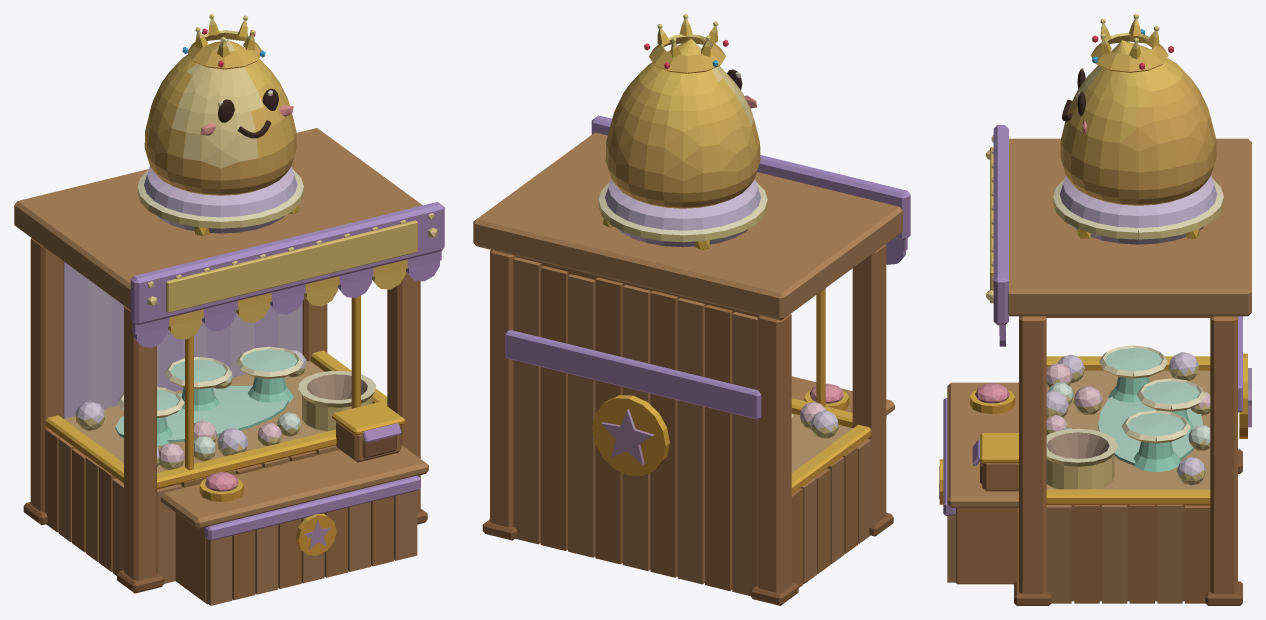
The model's file is exclusive_slime_claw_shop.fbx.
The picture shows the model from 3 angles, left to right: view 1: azimuth 30°, elevation 25°; view 2: azimuth 150°, elevation 25°; view 3: azimuth 270°, elevation 25°; orthographic projection. The views are drawn at different scales.
Parts seen in each view (by area): view 1: exclusive_slime_claw; view 2: exclusive_slime_claw; view 3: exclusive_slime_claw.
Part boxes in pixels (x1,y1,x2,y2): exclusive_slime_claw: (14,14,444,605); exclusive_slime_claw: (473,14,910,605); exclusive_slime_claw: (939,14,1251,605).
Size of the model in its own units: 14.6 by 22.23 by 12.42.
